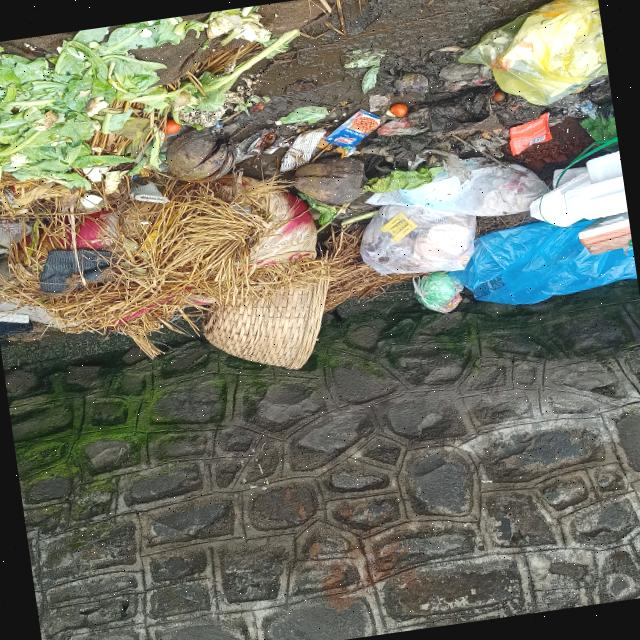garbage: (0, 0, 635, 379)
